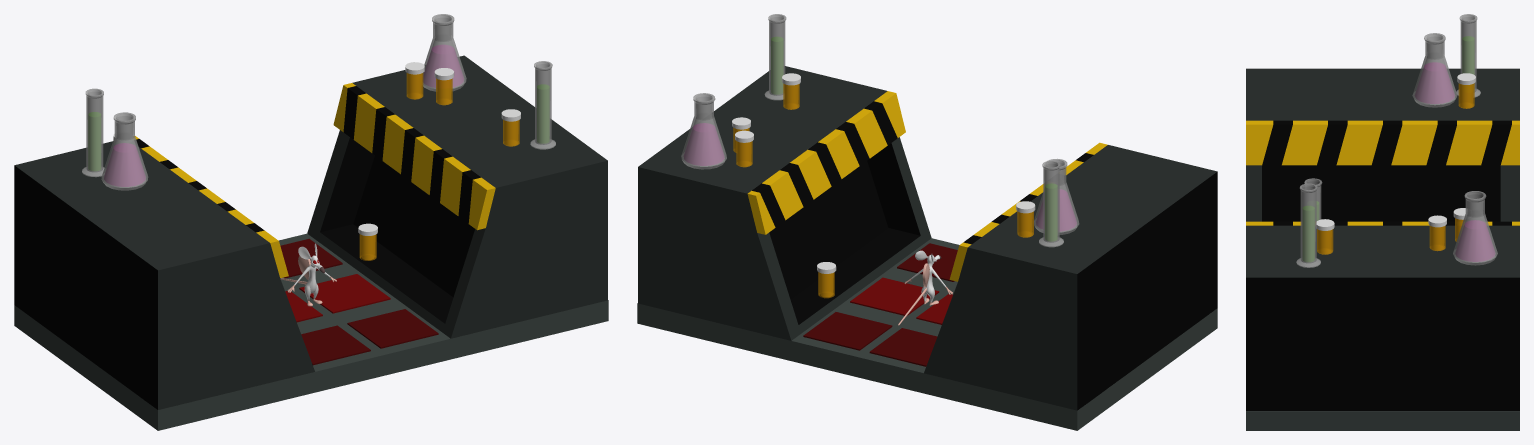
Rendered from RatScene_1.fbx.
The picture shows the model from 3 angles, left to right: view 1: azimuth 30°, elevation 25°; view 2: azimuth 150°, elevation 25°; view 3: azimuth 270°, elevation 25°; orthographic projection. The views are drawn at different scales.
Parts seen in each view (by area): view 1: pCube19, pCube18, pCylinder10, pCube21, pCylinder13, pCube20, pCube25, pCylinder11, pCylinder16, pCube22, Rat_Geo, pCylinder15 (+4 smaller); view 2: pCube19, pCube18, pCylinder13, pCube22, pCube20, pCube24, pCylinder11, pCylinder16, pCylinder10, pCube21, Rat_Geo, pCylinder19 (+3 smaller); view 3: pCube19, pCube18, pCylinder10, pCylinder13, pCylinder16, pCylinder11, pCylinder14, pCylinder7, pCylinder18, pCylinder12, pCylinder15.
Boxes of the visible parts, left/top/right/bottom form: pCube19: left=14, top=55, right=607, bottom=409; pCube18: left=14, top=233, right=608, bottom=430; pCylinder10: left=101, top=112, right=148, bottom=190; pCube21: left=347, top=309, right=438, bottom=348; pCylinder13: left=422, top=14, right=466, bottom=91; pCube20: left=299, top=274, right=390, bottom=313; pCube25: left=301, top=325, right=370, bottom=365; pCylinder11: left=82, top=88, right=104, bottom=177; pCylinder16: left=530, top=61, right=555, bottom=149; pCube22: left=280, top=238, right=342, bottom=278; Rat_Geo: left=280, top=243, right=336, bottom=306; pCylinder15: left=405, top=62, right=424, bottom=99; pCube19: left=638, top=66, right=1217, bottom=410; pCube18: left=637, top=238, right=1217, bottom=430; pCylinder13: left=681, top=93, right=726, bottom=169; pCube22: left=803, top=312, right=892, bottom=350; pCube20: left=850, top=277, right=939, bottom=315; pCube24: left=869, top=328, right=937, bottom=366; pCylinder11: left=1039, top=161, right=1063, bottom=247; pCylinder16: left=764, top=14, right=786, bottom=100; pCylinder10: left=1034, top=158, right=1079, bottom=234; pCube21: left=897, top=243, right=957, bottom=281; Rat_Geo: left=898, top=250, right=952, bottom=325; pCylinder19: left=817, top=262, right=836, bottom=298; pCube19: left=1246, top=68, right=1519, bottom=410; pCube18: left=1246, top=411, right=1519, bottom=430; pCylinder10: left=1412, top=33, right=1457, bottom=107; pCylinder13: left=1453, top=191, right=1497, bottom=265; pCylinder16: left=1296, top=183, right=1320, bottom=267; pCylinder11: left=1456, top=14, right=1480, bottom=97; pCylinder14: left=1428, top=215, right=1446, bottom=251; pCylinder7: left=1457, top=73, right=1475, bottom=108; pCylinder18: left=1316, top=219, right=1334, bottom=254; pCylinder12: left=1304, top=178, right=1322, bottom=221; pCylinder15: left=1453, top=208, right=1466, bottom=241.
Size of the model in its own units: 186 by 94.49 by 103.
